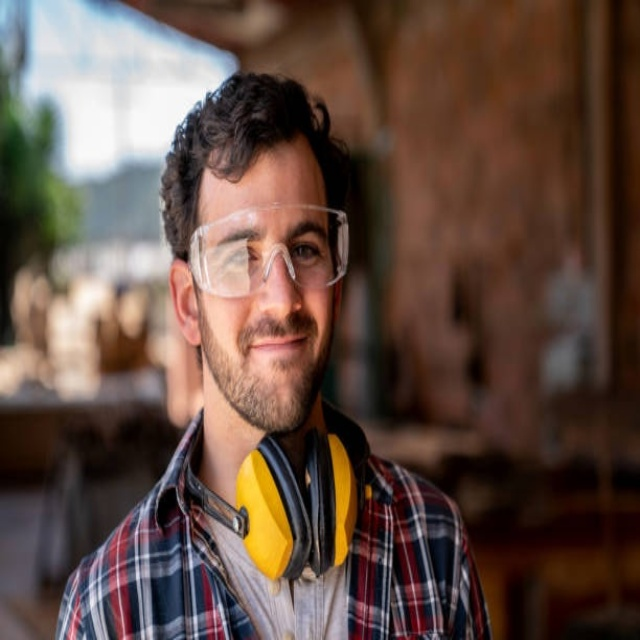Gafas: (184, 205, 352, 297)
Sin_mascara: (241, 323, 315, 405)
